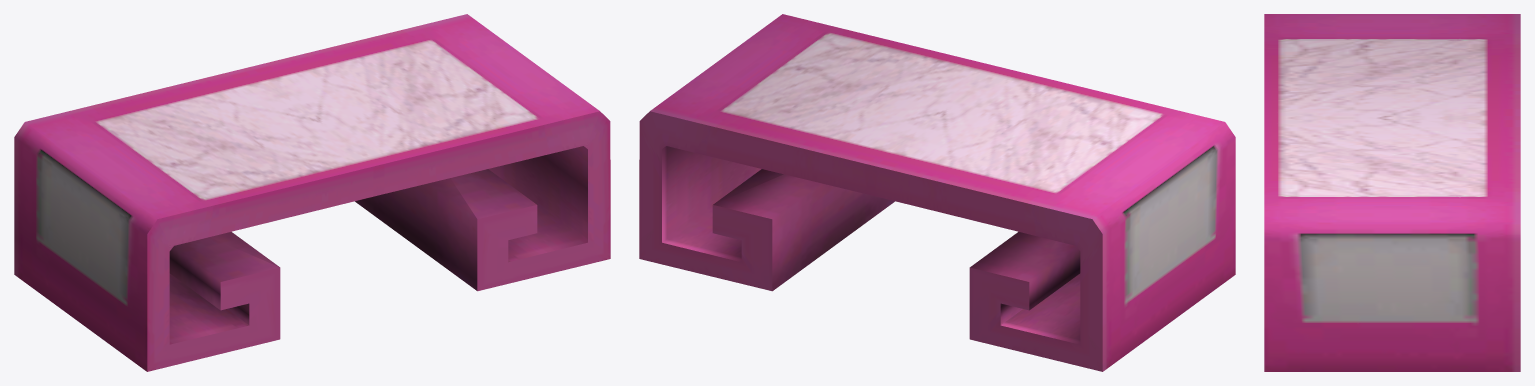
The model's file is furni_0200504_01.FBX.
3 renders of one model, left to right at view 1: azimuth 30°, elevation 25°; view 2: azimuth 150°, elevation 25°; view 3: azimuth 270°, elevation 25°, orthographic. The views are drawn at different scales.
Visible parts, largest first — view 1: furni_0200504_01; view 2: furni_0200504_01; view 3: furni_0200504_01.
Part boxes in pixels (x1,y1,x2,y2): furni_0200504_01: (14,14,610,371); furni_0200504_01: (639,14,1235,371); furni_0200504_01: (1264,14,1520,371).
Size of the model in its own units: 160 by 49.56 by 79.39.
Materials: 1 (1 with a texture image).
